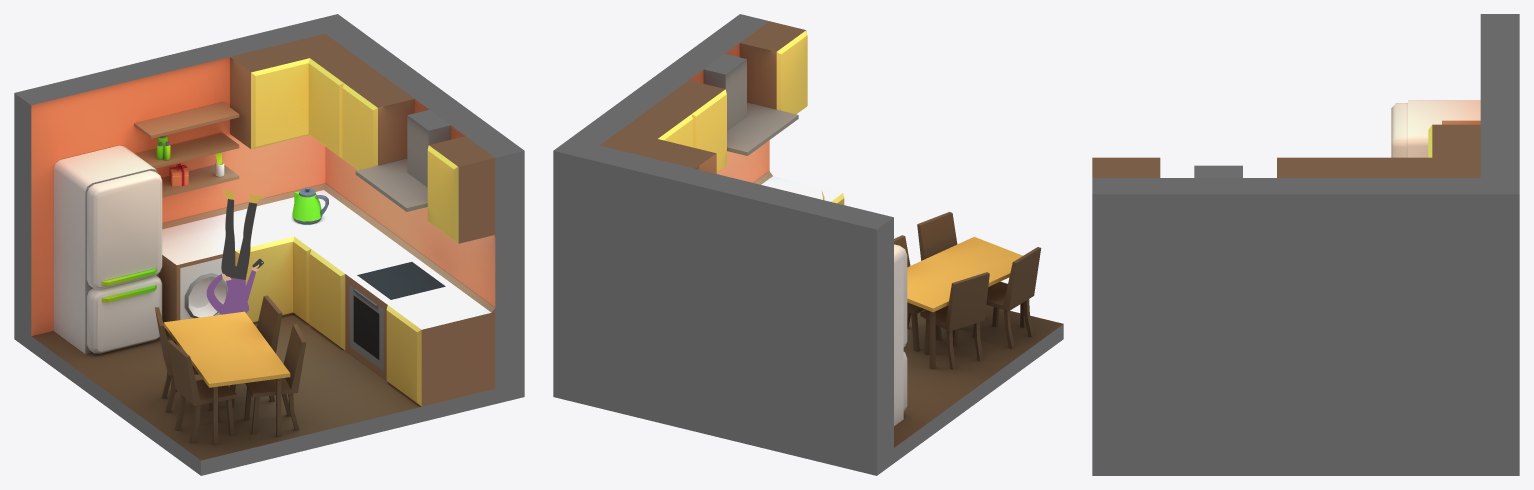
Rendered from SBRO_Rooms_GEO_Kitchen.glb.
The picture shows the model from 3 angles, left to right: view 1: azimuth 30°, elevation 25°; view 2: azimuth 150°, elevation 25°; view 3: azimuth 270°, elevation 25°; orthographic projection. The views are drawn at different scales.
Parts seen in each view (by area): view 1: Plane.022, Plane.018, Fridge, Plane.024, Kitchen_Character, Plane.025, Plane.028, Kettle, Plane.027, Plane.026; view 2: Plane.022, Plane.018, Plane.024, Plane.026, Plane.025, Fridge, Plane.028, Plane.027; view 3: Plane.022, Plane.018, Fridge.
Part boxes in pixels (box(x1,y1,x2,y2)): Plane.022: box(14, 14, 524, 475); Plane.018: box(134, 33, 495, 406); Fridge: box(53, 145, 162, 353); Plane.024: box(163, 311, 290, 445); Kitchen_Character: box(206, 190, 264, 314); Plane.025: box(167, 340, 236, 443); Plane.028: box(244, 324, 306, 434); Kettle: box(292, 187, 328, 224); Plane.027: box(230, 295, 282, 407); Plane.026: box(155, 307, 212, 412); Plane.022: box(553, 14, 1063, 475); Plane.018: box(600, 21, 844, 204); Plane.024: box(907, 236, 1026, 369); Plane.026: box(920, 272, 989, 369); Plane.025: box(973, 247, 1041, 348); Fridge: box(894, 244, 907, 426); Plane.028: box(917, 212, 957, 310); Plane.027: box(894, 235, 941, 351); Plane.022: box(1092, 14, 1519, 475); Plane.018: box(1092, 120, 1480, 177); Fridge: box(1391, 100, 1480, 157).
Size of the model in its own units: 4.4 by 3.2 by 4.4.
5 materials, 4 textured.
